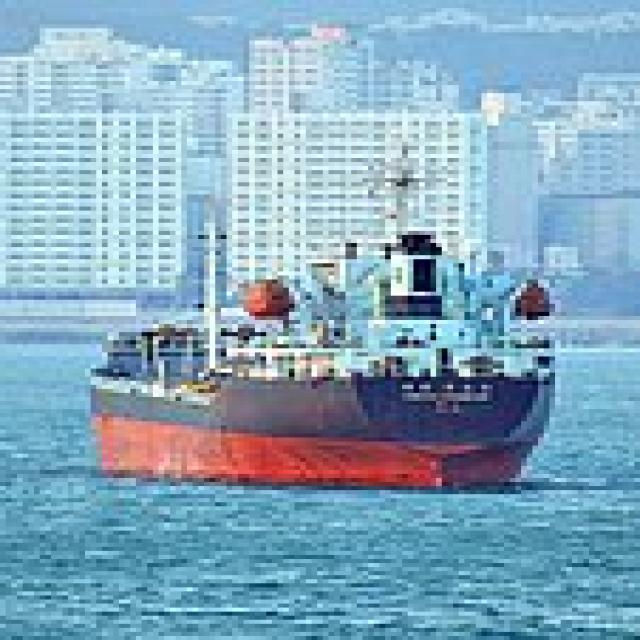Tanker: (73, 223, 560, 494)
